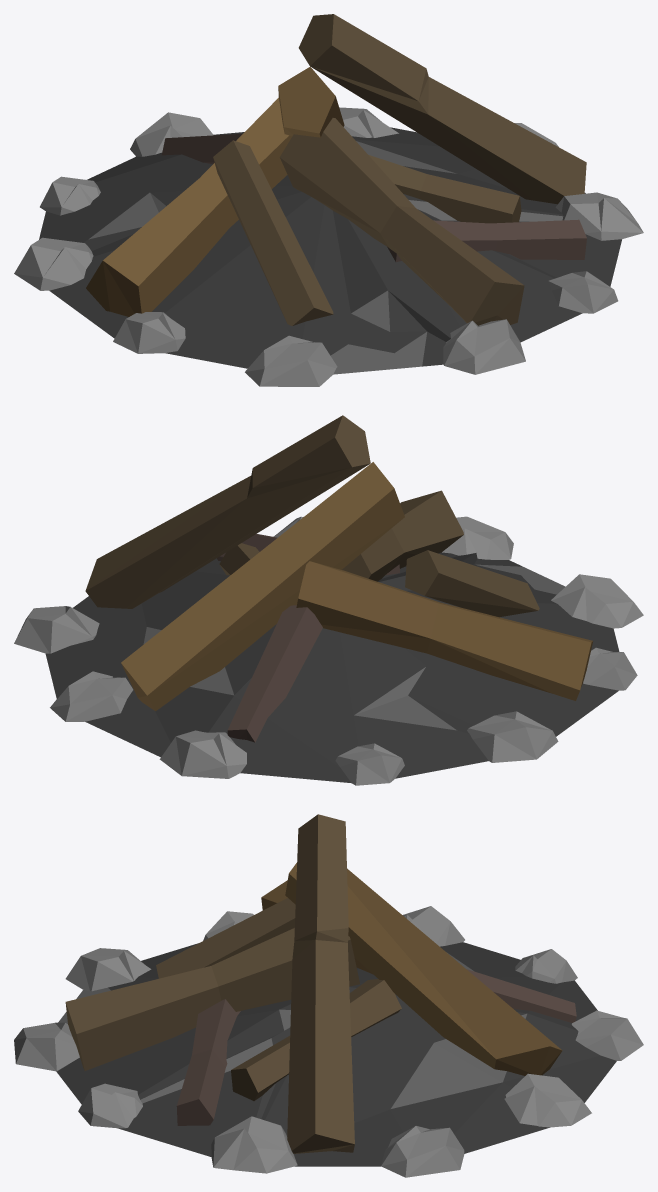
Rendered from model_polytope_camp_fire.fbx.
The picture shows the model from 3 angles, top to bottom: view 1: azimuth 30°, elevation 25°; view 2: azimuth 150°, elevation 25°; view 3: azimuth 270°, elevation 25°; orthographic projection. The views are drawn at different scales.
Visible parts, largest first — view 1: model_polytope_camp_fire; view 2: model_polytope_camp_fire; view 3: model_polytope_camp_fire.
Boxes of the visible parts, x1,y1,x2,y2 form: model_polytope_camp_fire: (14, 14, 643, 386); model_polytope_camp_fire: (14, 415, 643, 785); model_polytope_camp_fire: (14, 814, 643, 1177).
Size of the model in its own units: 130 by 58.57 by 137.
1 material, 1 textured.
